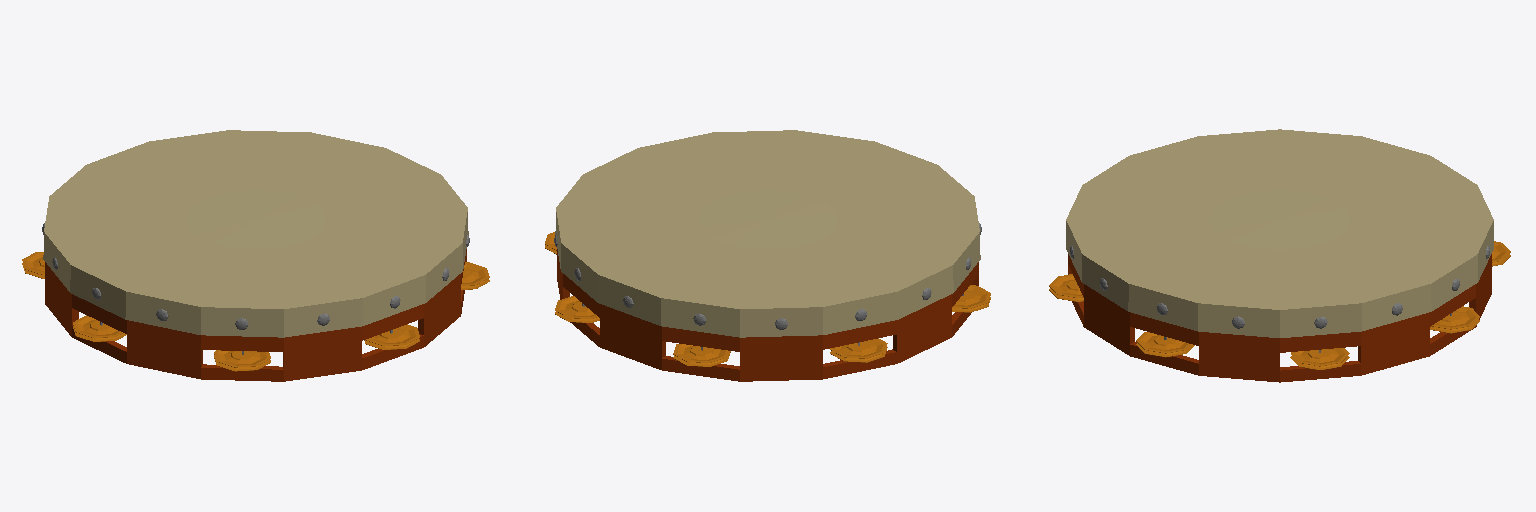
File: tamberine.obj
The picture shows the model from 3 angles: view 1: azimuth 30°, elevation 25°; view 2: azimuth 150°, elevation 25°; view 3: azimuth 270°, elevation 25°; orthographic projection.
Size of the model in its own units: 2.18 by 0.383 by 2.18.